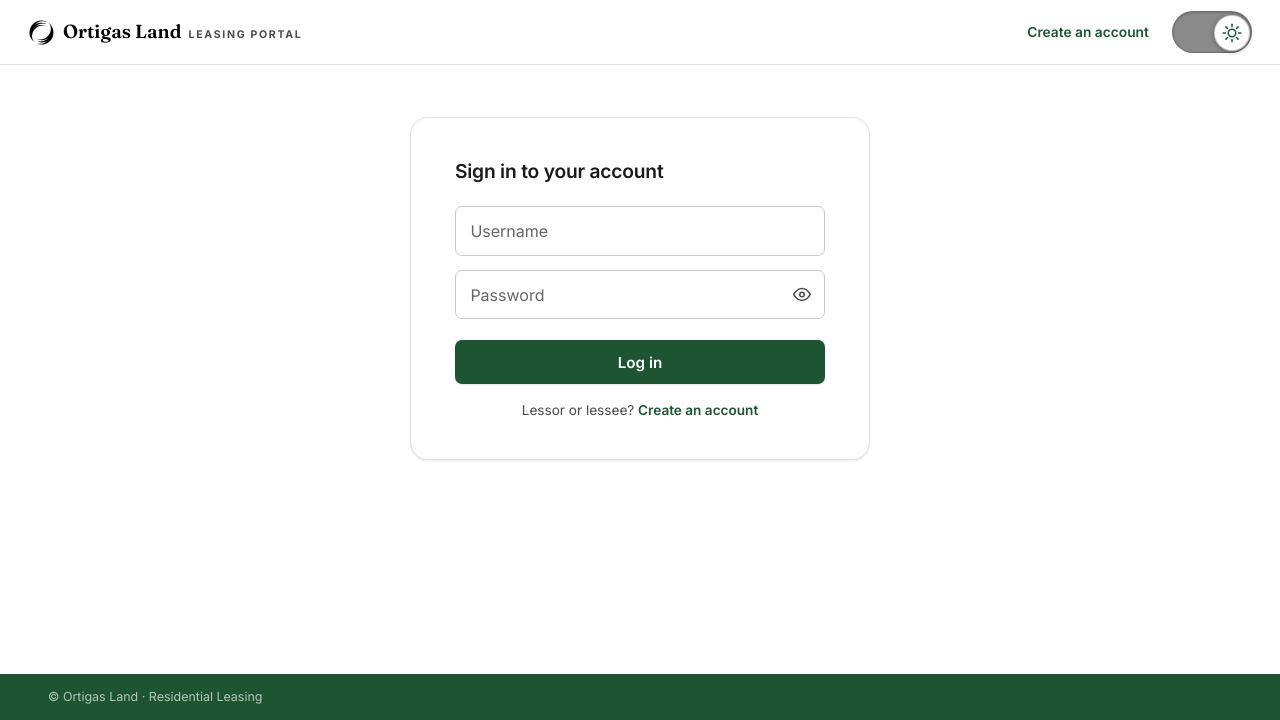
Test: LoginView — when sign-in is refused › tells a throttled person to wait, not that their account was not found
Step 1. Type "jane" into the field with id "username" → (640, 231), box [455, 206, 825, 256]
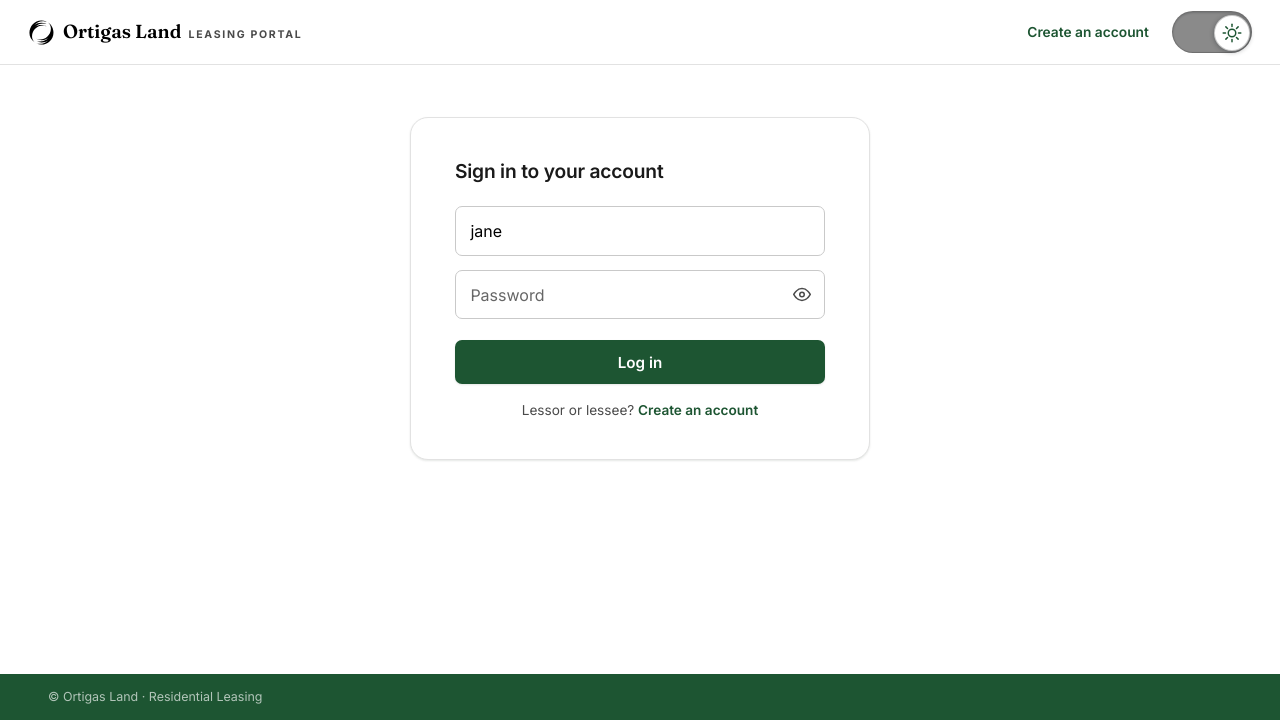
Step 2. Type "secret12345" into the password field with placeholder "Password" → (640, 294), box [455, 270, 825, 319]
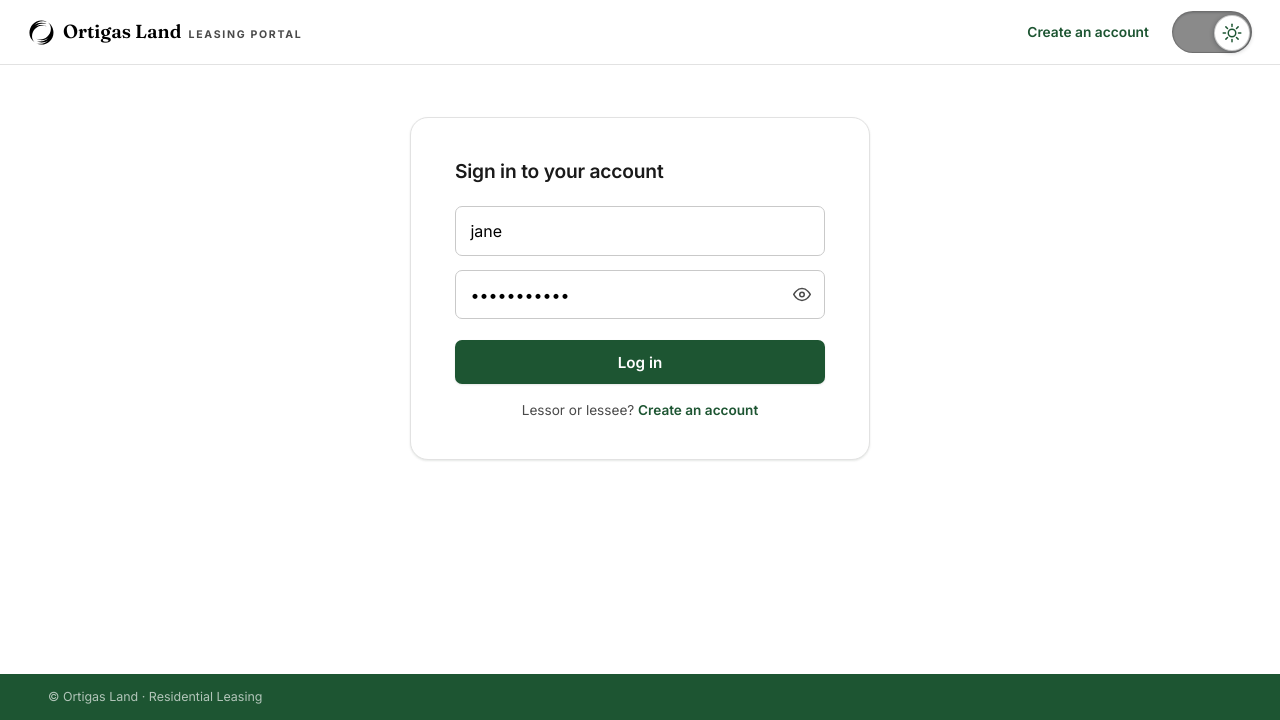
Step 3. Submit the form, box [455, 206, 825, 384]
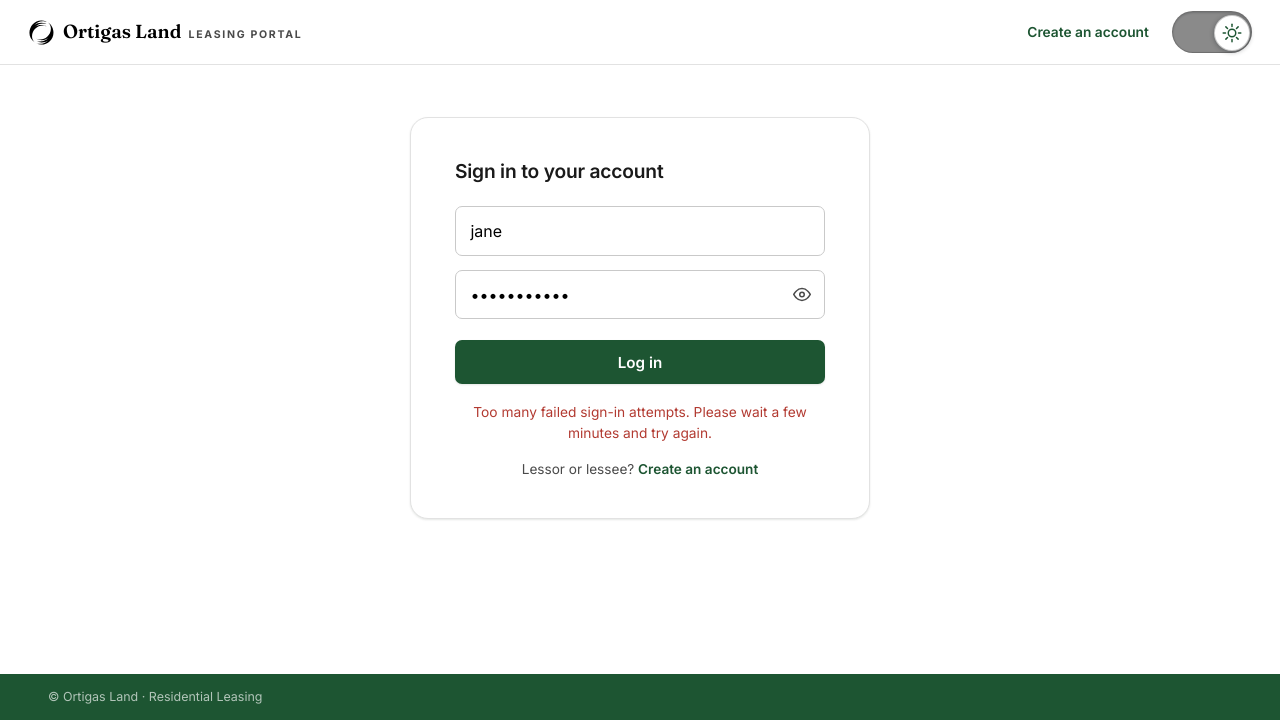
Expected: the text "Too many failed sign-in attempts" is shown, [473, 404, 807, 440]
